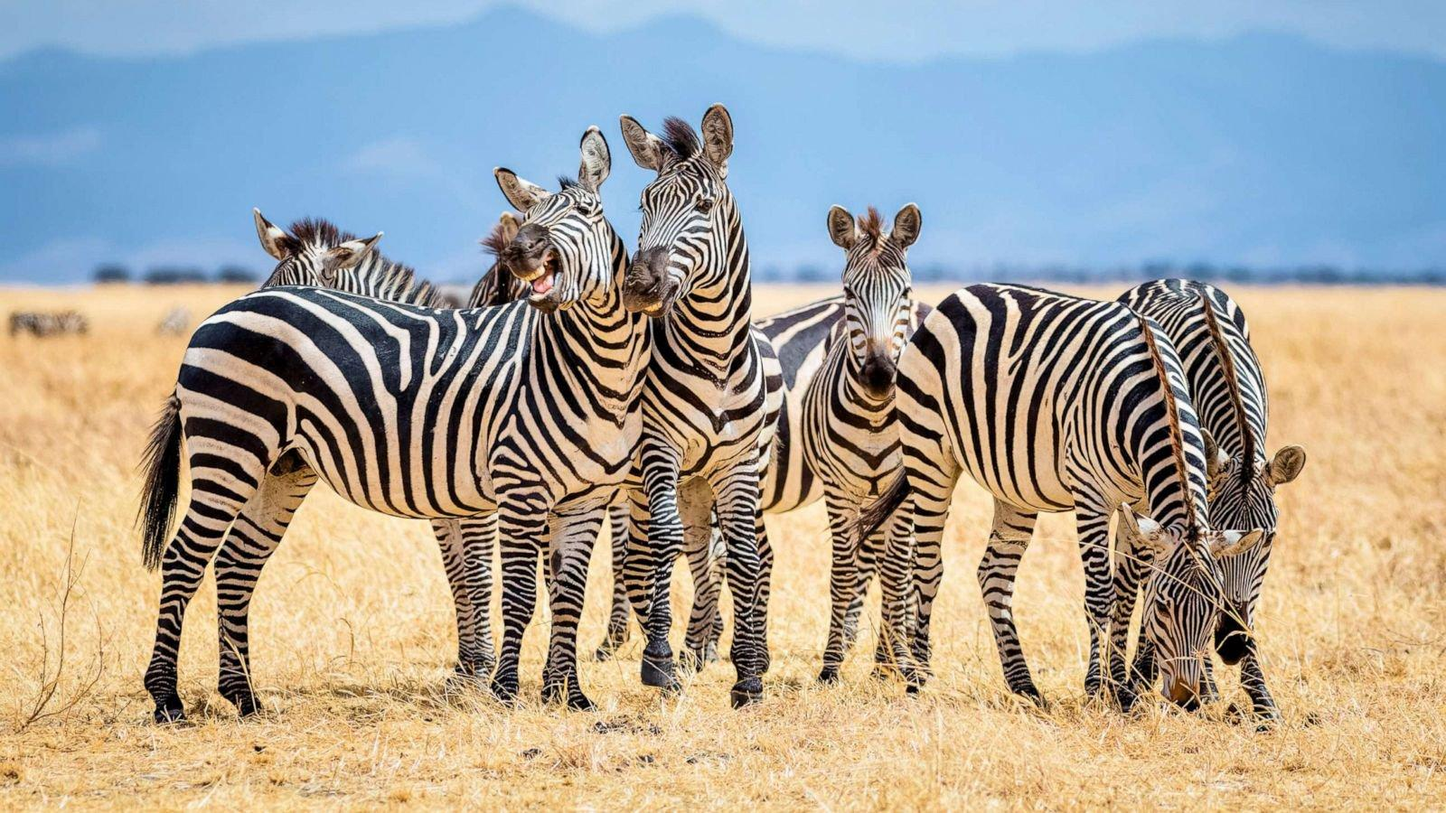Zebra: (142, 126, 648, 719), (897, 284, 1263, 710), (620, 104, 779, 706), (1118, 279, 1285, 712), (801, 204, 921, 682)
